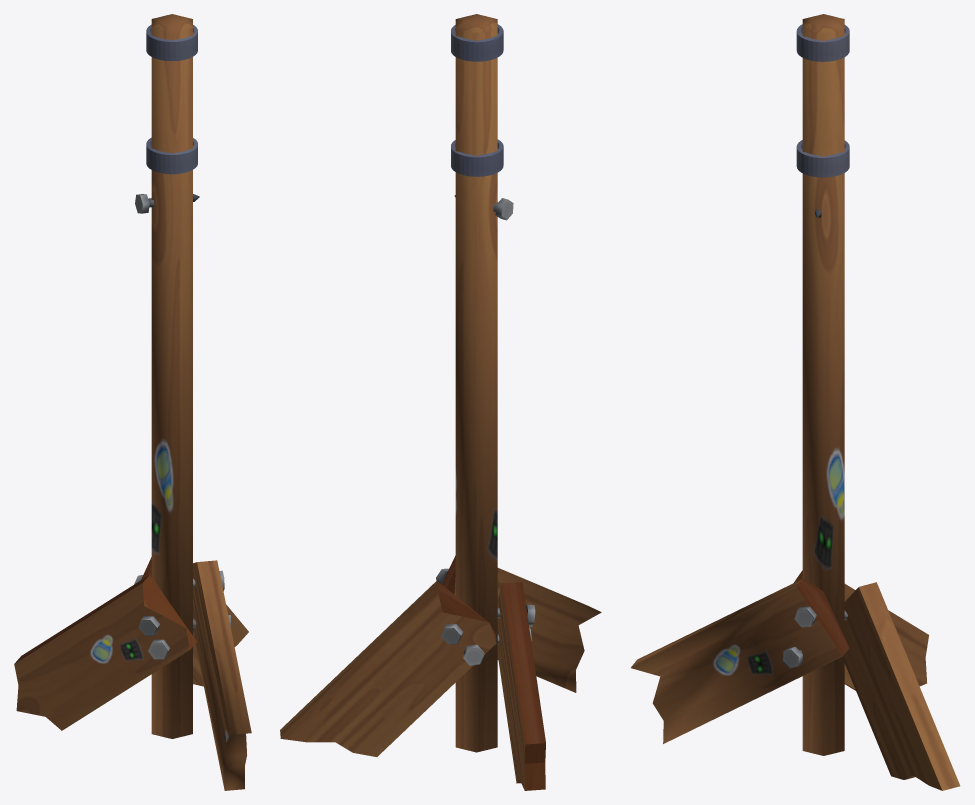
Rendered from FlagSupport.fbx.
The picture shows the model from 3 angles, left to right: view 1: azimuth 30°, elevation 25°; view 2: azimuth 150°, elevation 25°; view 3: azimuth 270°, elevation 25°; orthographic projection. The views are drawn at different scales.
Parts seen in each view (by area): view 1: workbench; view 2: workbench; view 3: workbench.
Boxes of the visible parts, x1=… form: workbench: x1=14, y1=14, x2=251, y2=790; workbench: x1=280, y1=14, x2=601, y2=790; workbench: x1=631, y1=14, x2=960, y2=790.
Size of the model in its own units: 2.57 by 7.04 by 2.9.
